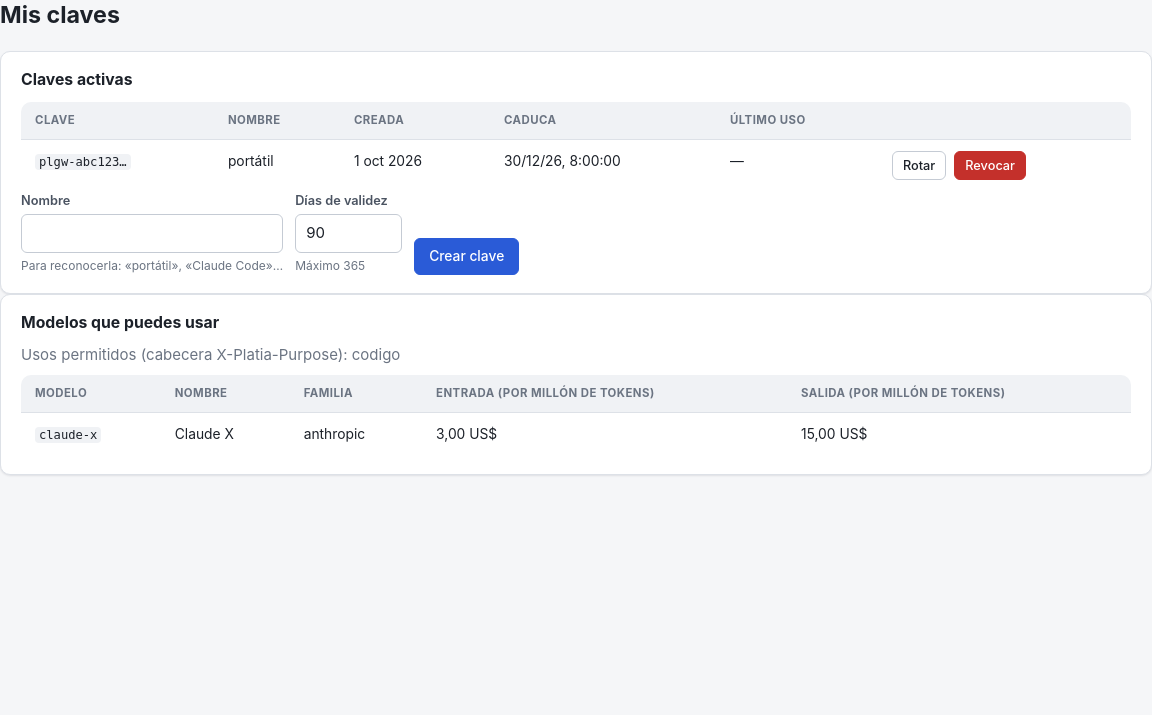
Test: portal de usuario › rotar pide el margen y avisa de hasta cuándo vale la anterior
The image size is (1152, 715).
Click the button "Rotar" at (919, 165), box [892,151,946,180]
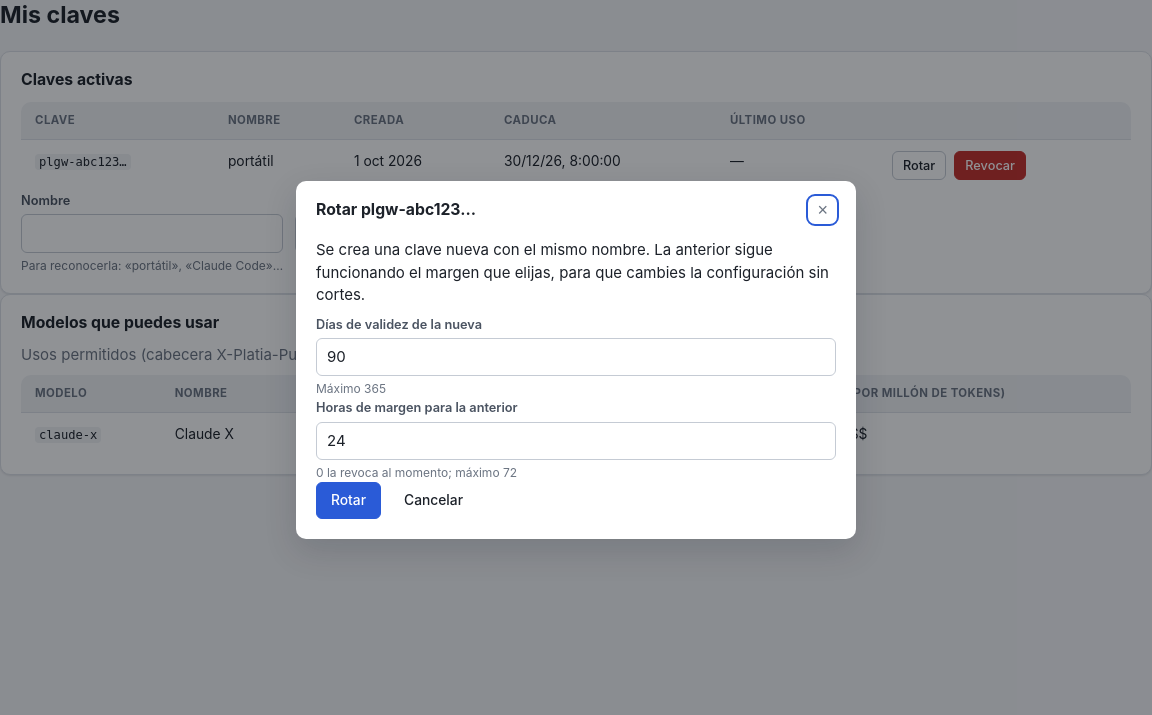
Replace the text in the number field named "Horas de margen para la anterior" below "Horas de margen para la anterior" with "4" at (576, 441), box [316,422,836,460]
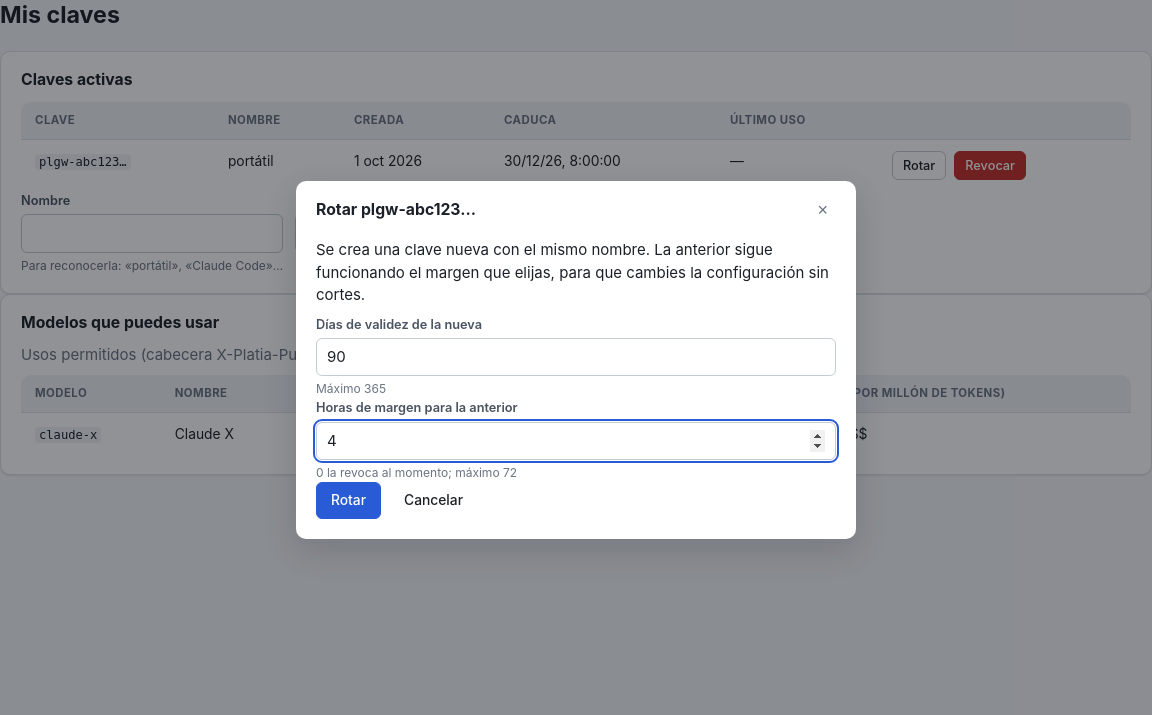
Click the button "Rotar" at (348, 500), box [316,482,381,519]
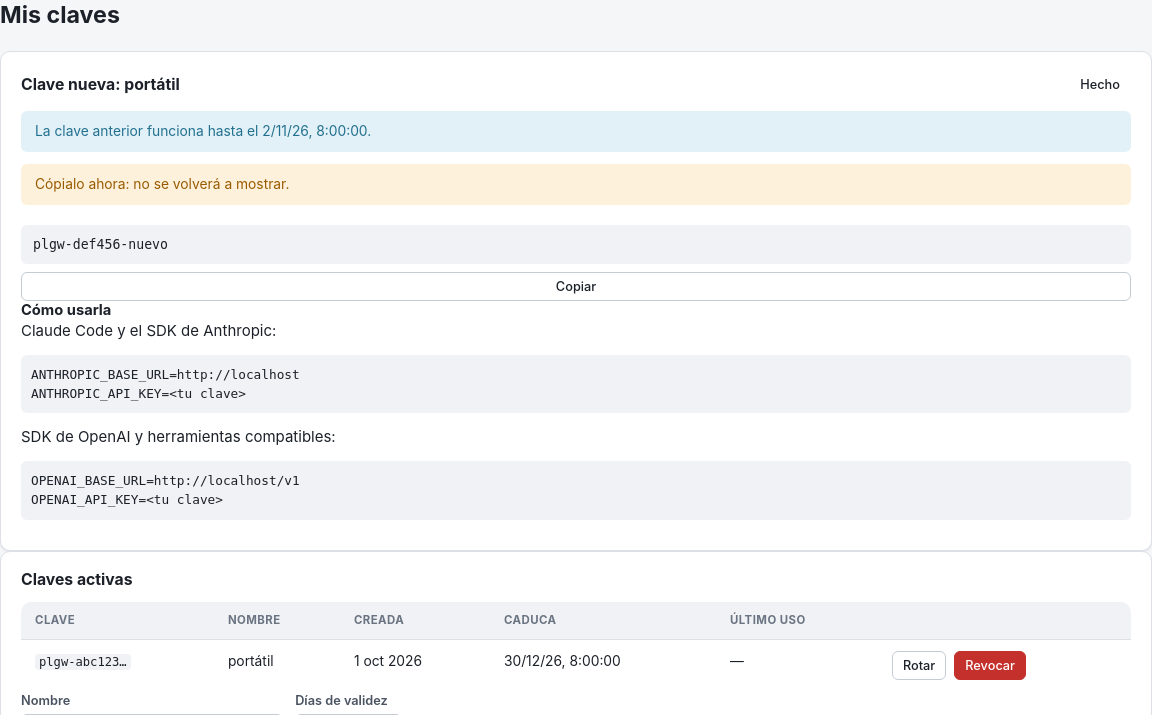
Expected: the text "plgw-def456-nuevo" is shown, [21,225,1131,264]
Expected: the text "La clave anterior funciona hasta el 2/11/26, 8:00:00." is shown, [21,111,1131,152]
